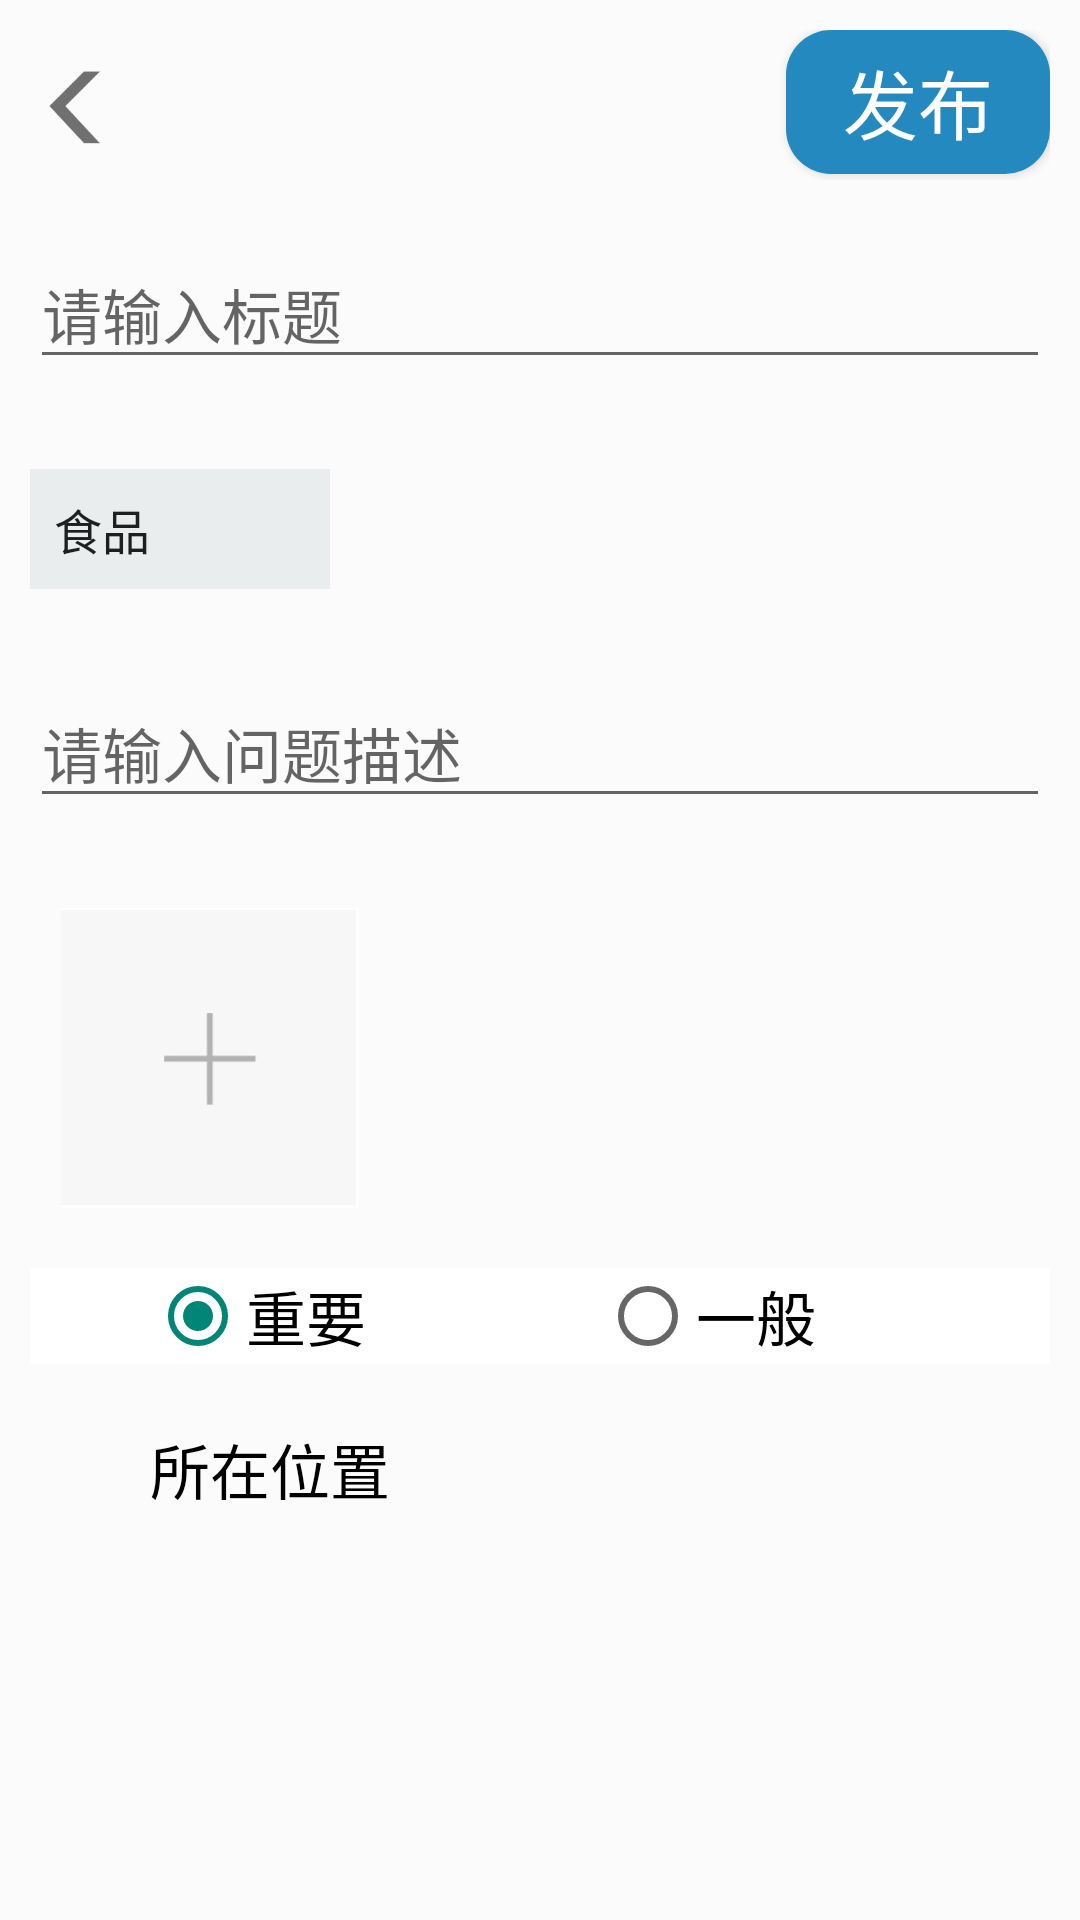

Locate icon controls on the screen. Image size 1080px x 1920px, boxes as (x1, y1, x2, y2).
choose pictures: (164, 1013, 256, 1105)
forward left: (49, 71, 100, 144)
